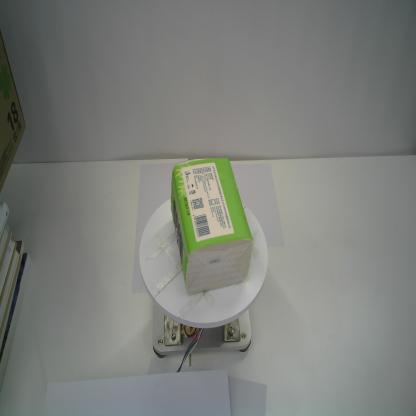Tissue: (170, 157, 253, 297)
